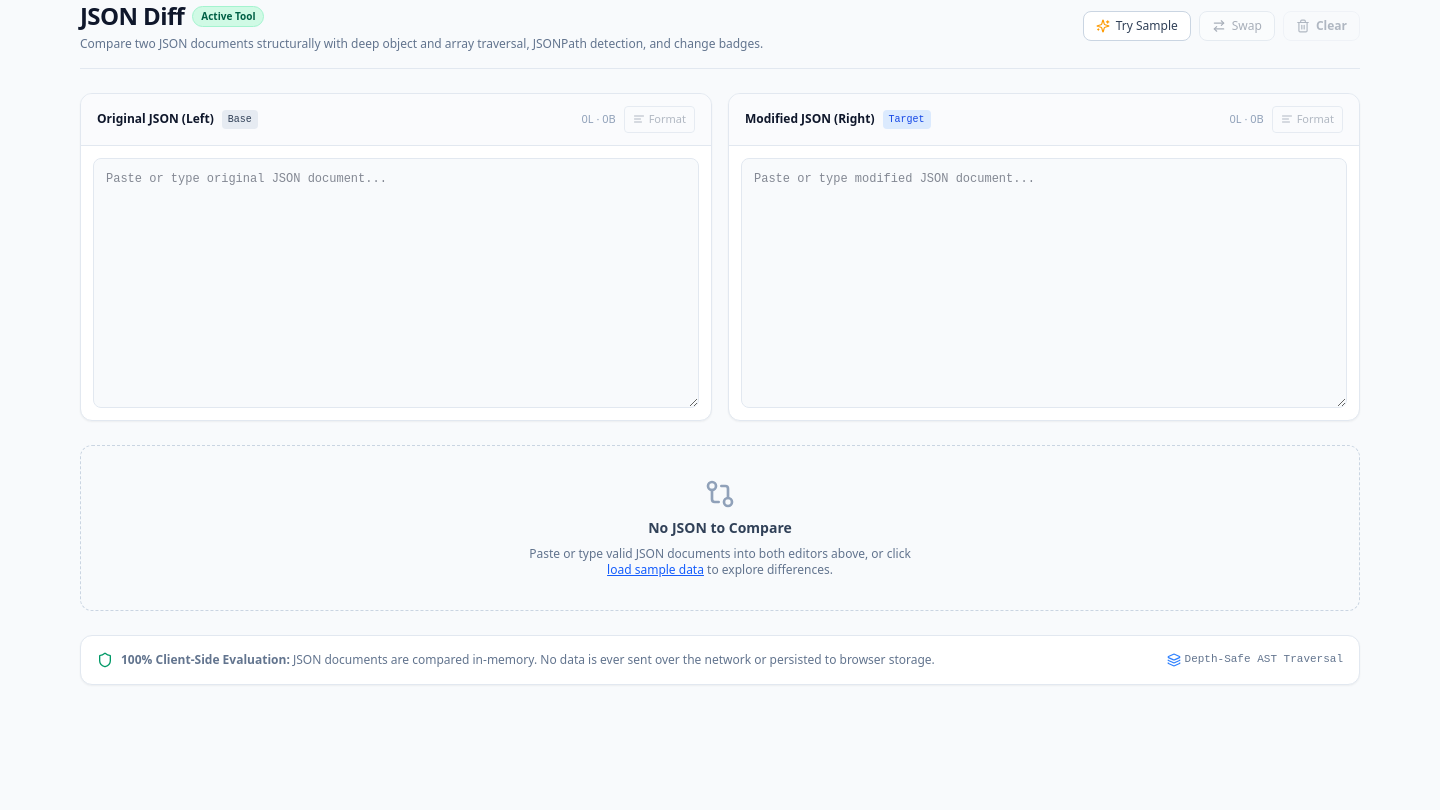
Test: JsonDiff Component › loads sample JSON documents when "Try Sample" is clicked and renders differences
Click the button "Try Sample".
click(1137, 26)  # box [1083,11,1191,41]
(page scrolled)
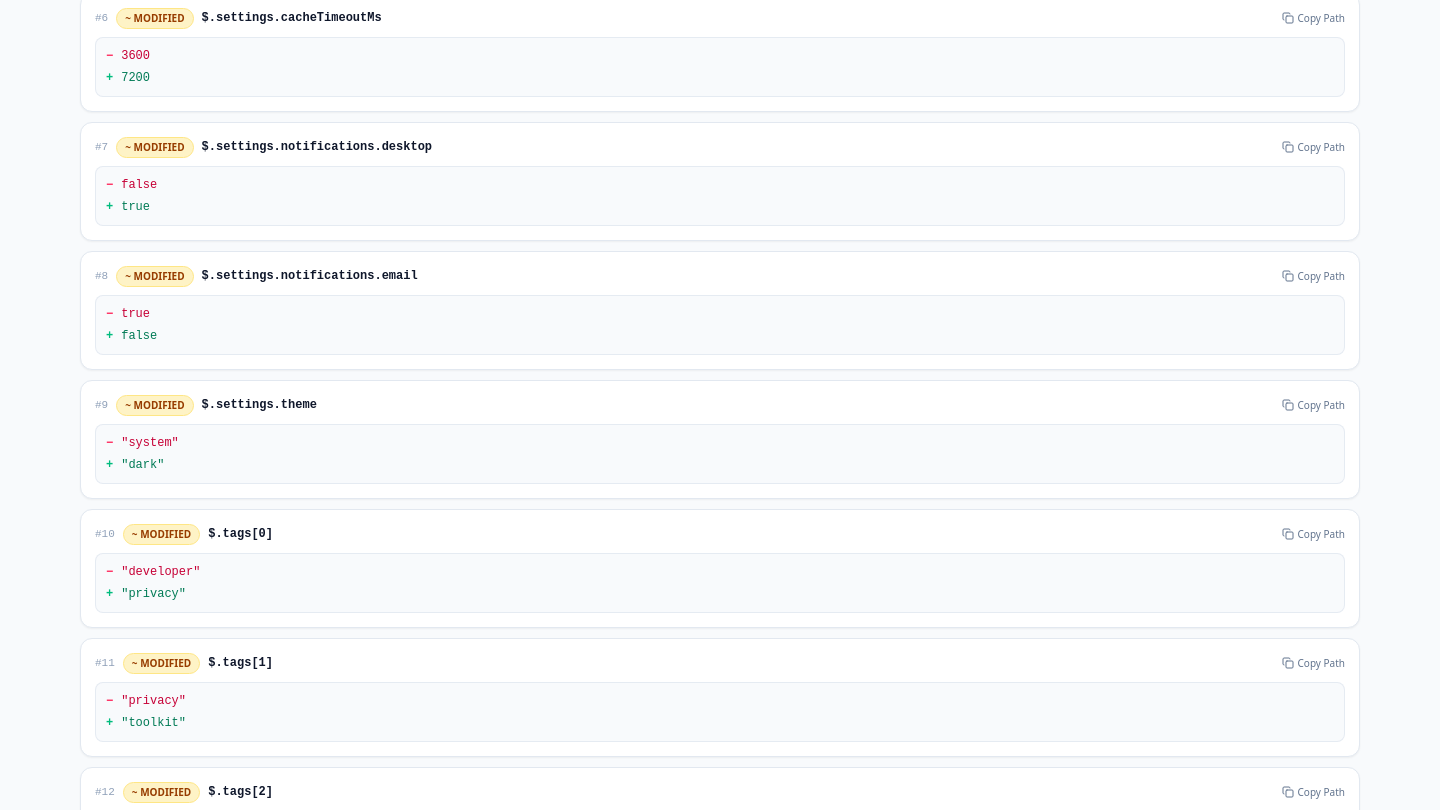
Expected: the text "$.settings.theme" is shown, [202,397,317,413]
